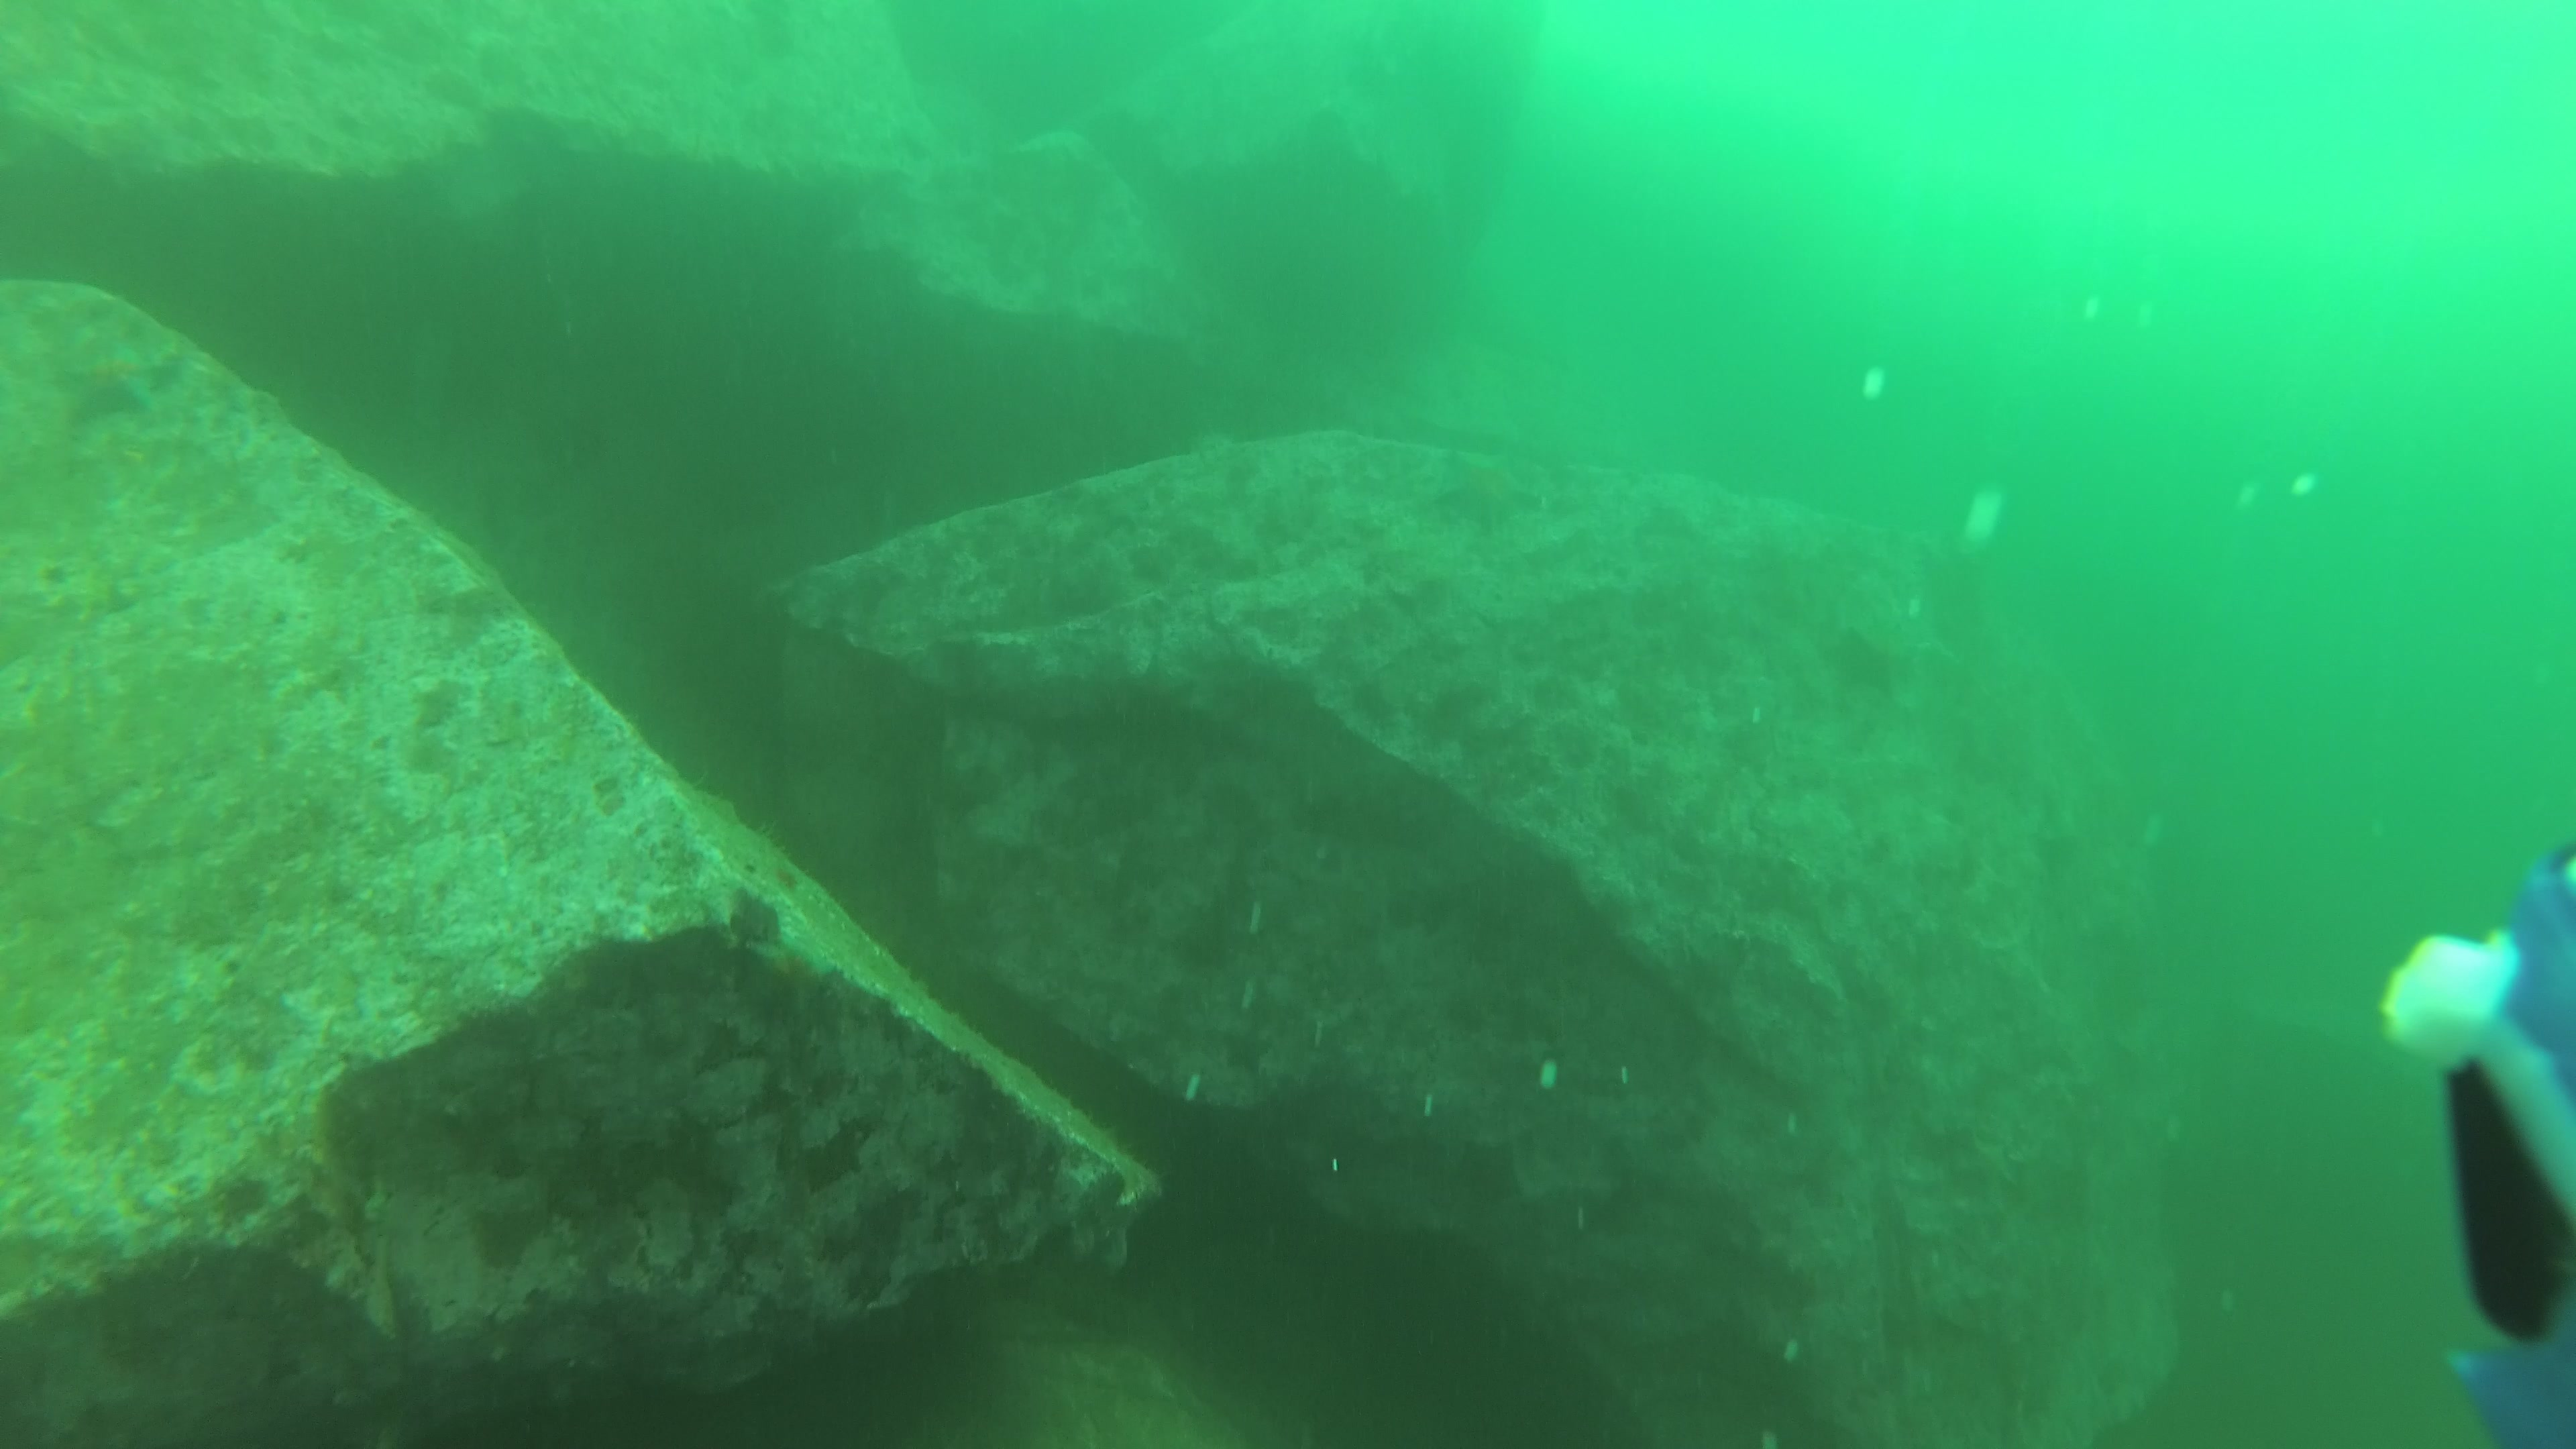starfish: (48, 343, 189, 435), (1445, 1123, 1536, 1221), (1812, 619, 1904, 706)
